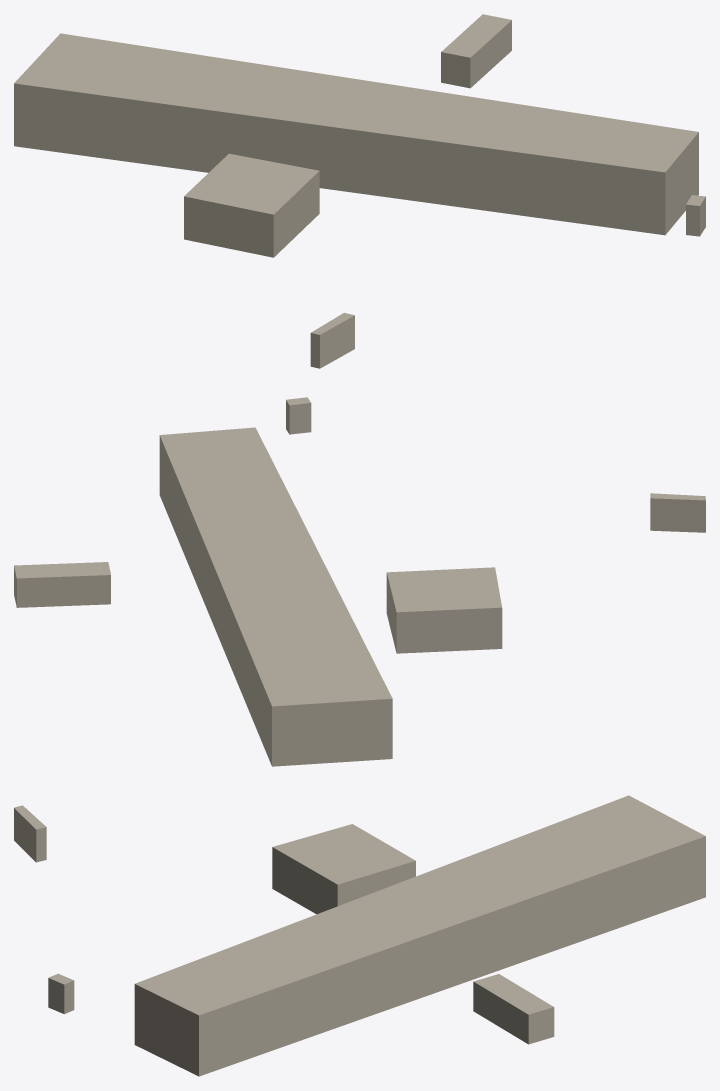
File: senglea_55_28_far.glb
3 renders of one model, top to bottom at view 1: azimuth 30°, elevation 25°; view 2: azimuth 150°, elevation 25°; view 3: azimuth 270°, elevation 25°, orthographic. The views are drawn at different scales.
Visible parts, largest first — view 1: geometry_0; view 2: geometry_0; view 3: geometry_0.
Boxes of the visible parts, <box> form: geometry_0: <box>14,14,705,368</box>; geometry_0: <box>14,397,705,766</box>; geometry_0: <box>14,795,705,1076</box>.
Size of the model in its own units: 170 by 21.8 by 219.
